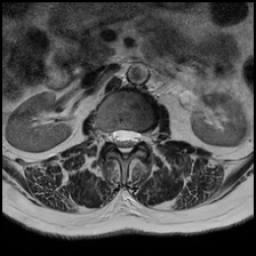CCS_normal: (120, 121, 129, 163)
LFS_normal: (139, 121, 149, 151)
LLS_normal: (129, 121, 140, 153)
RFS_normal: (102, 122, 112, 148)
RLS_normal: (112, 121, 120, 152)
